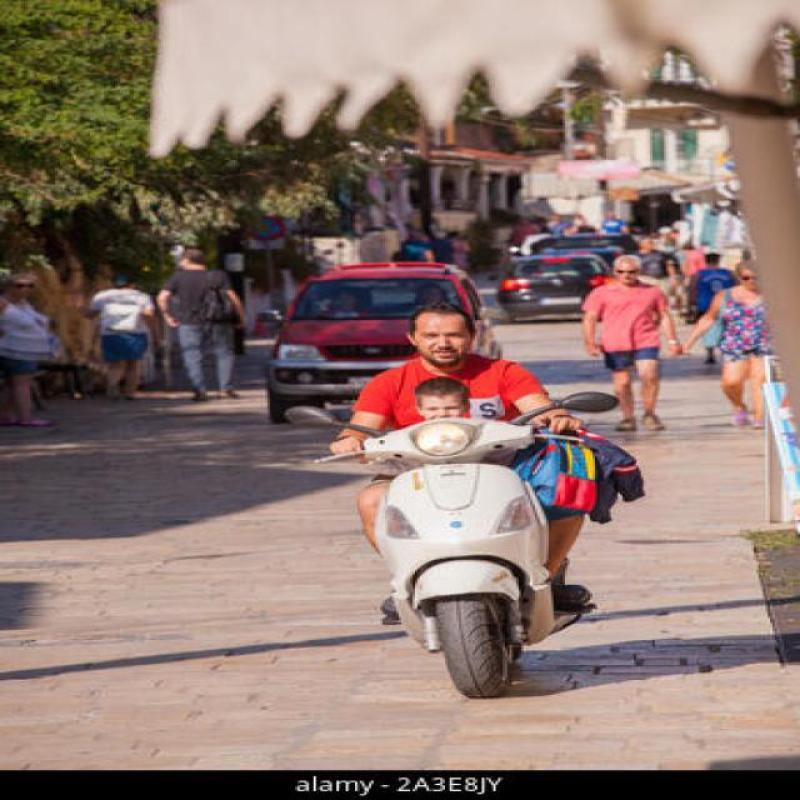nohelmet: (403, 296, 483, 372)
